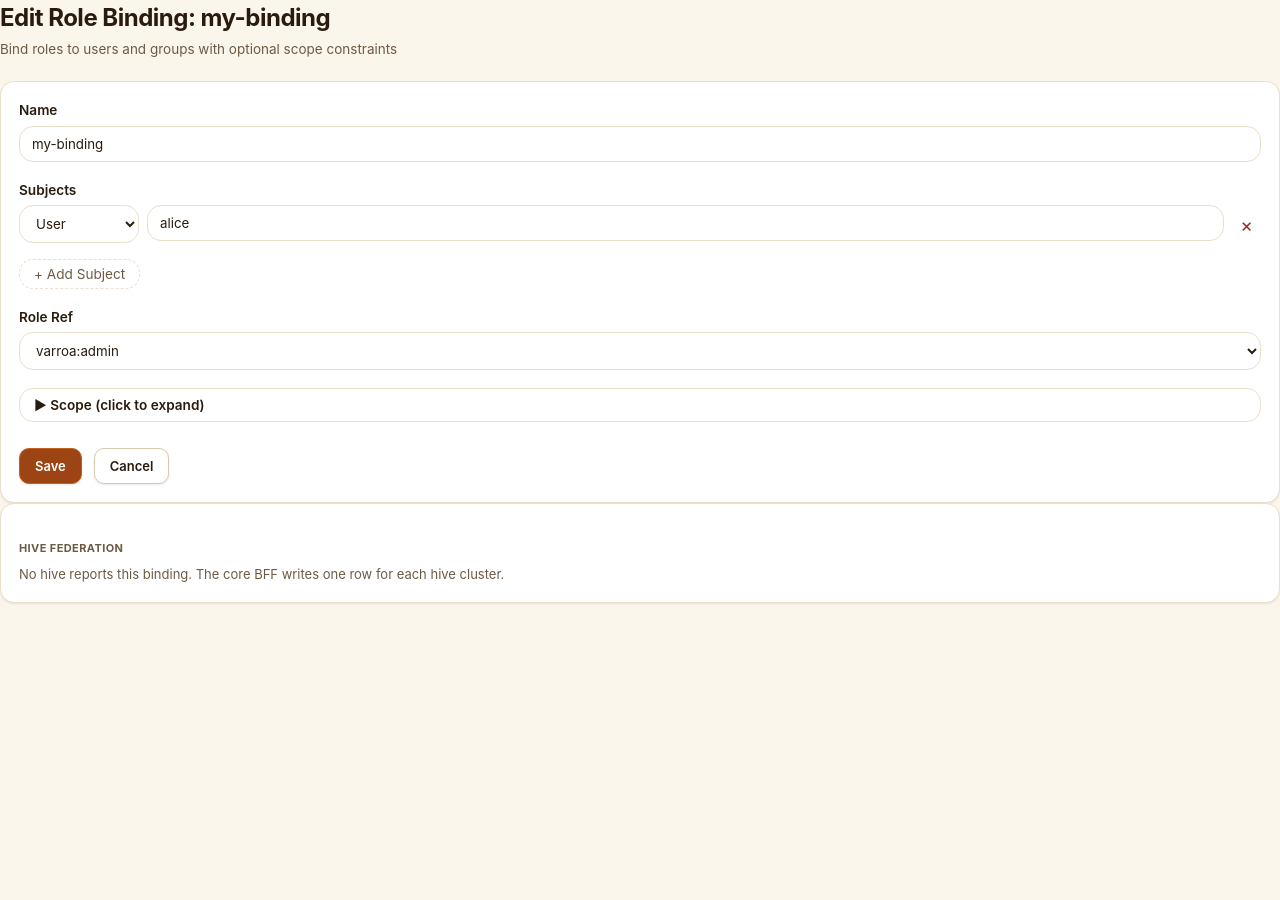
Test: RoleBindingForm — edit mode › loads scope data in edit mode
Expected: the text "Edit Role Binding: my-binding" is shown, [0, 3, 330, 32]
Expand scope section
Click the button "▶ Scope (click to expand)" at [71, 405], box [19, 388, 1261, 422]
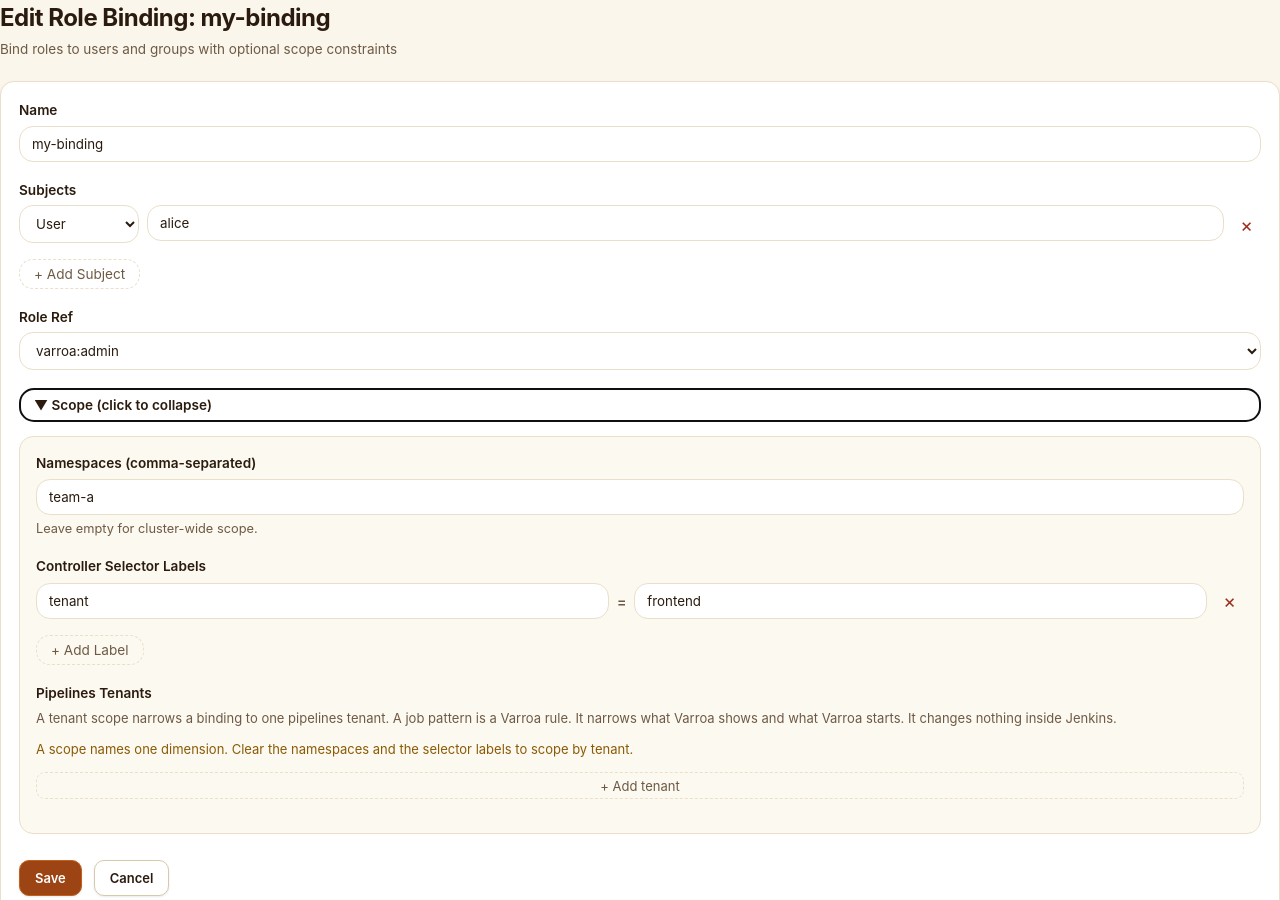
Now the field showing "team-a" below "Namespaces (comma-separated)" is shown, box [36, 479, 1244, 515]
